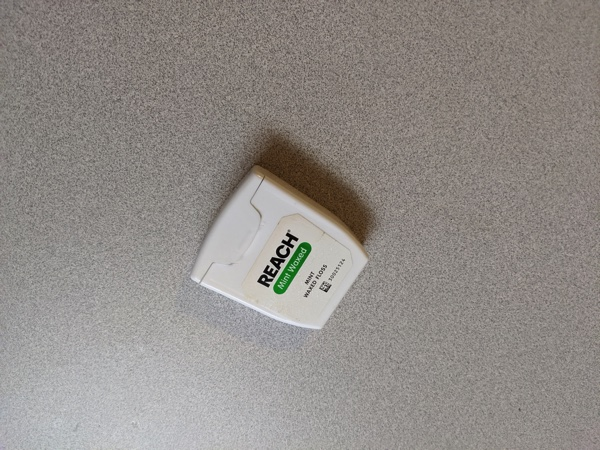plastic: (172, 146, 383, 354)
